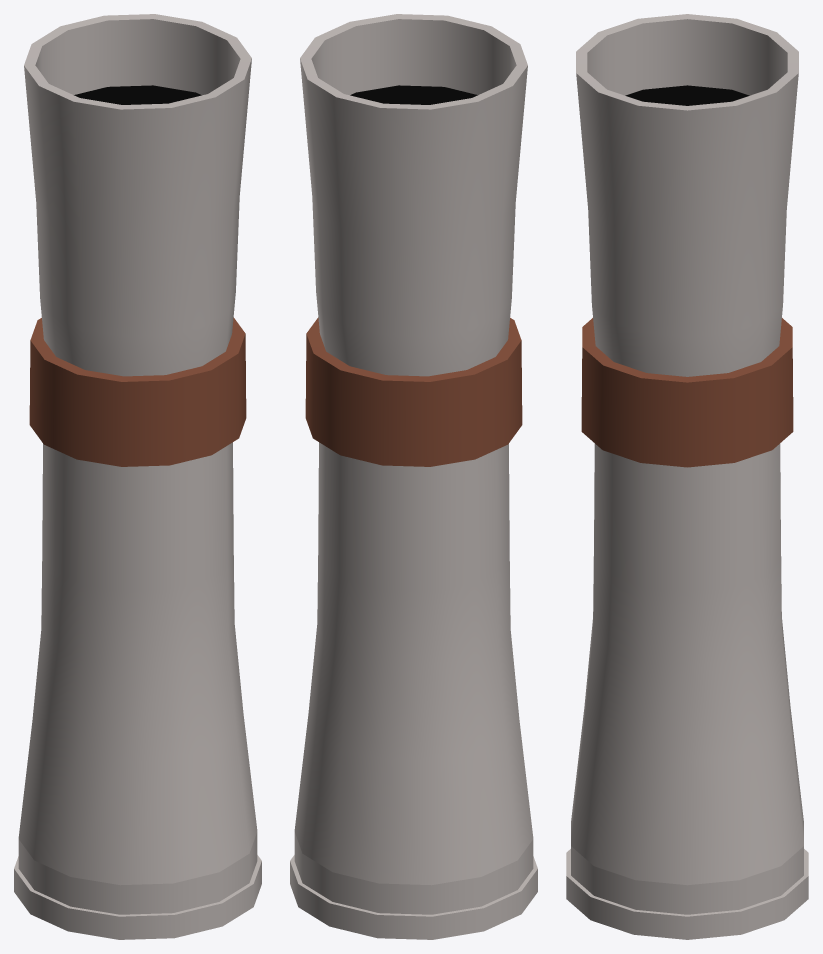
File: Silo.fbx
3 views of the same model, side by side, from view 1: azimuth 30°, elevation 25°; view 2: azimuth 150°, elevation 25°; view 3: azimuth 270°, elevation 25° (orthographic).
Visible parts, largest first — view 1: pCylinder1; view 2: pCylinder1; view 3: pCylinder1.
Part boxes in pixels (x1,y1,x2,y2): pCylinder1: [14, 14, 261, 939]; pCylinder1: [290, 14, 537, 939]; pCylinder1: [566, 14, 808, 939].
Bounding box in the file's own units: 5.64 × 20.68 × 5.5.
